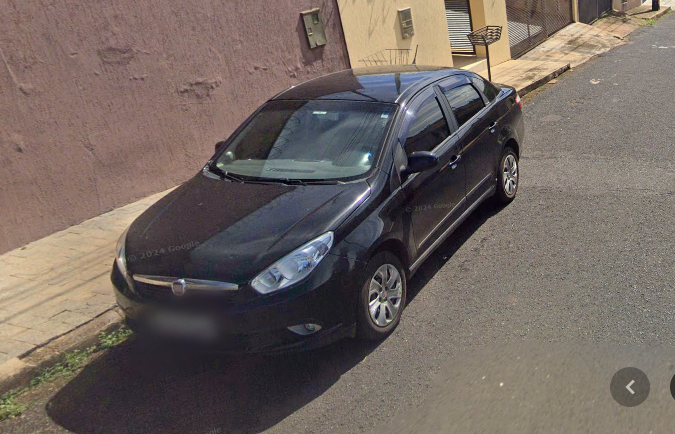car: (105, 42, 527, 359)
